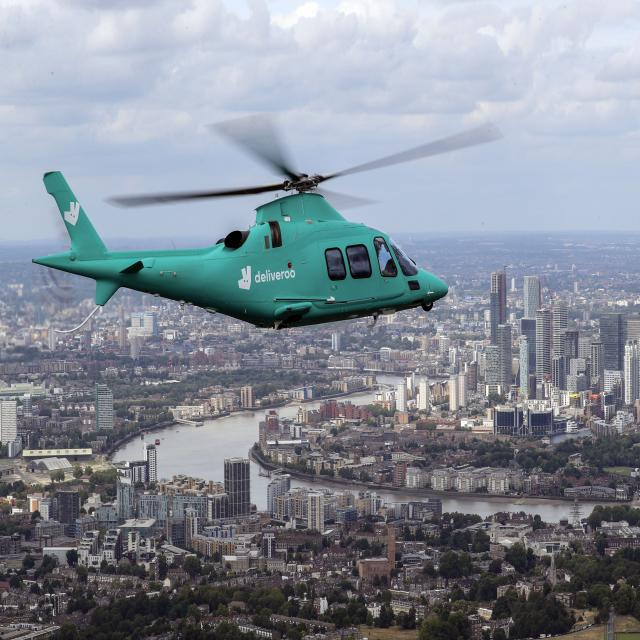helicopter: (32, 101, 505, 339)
